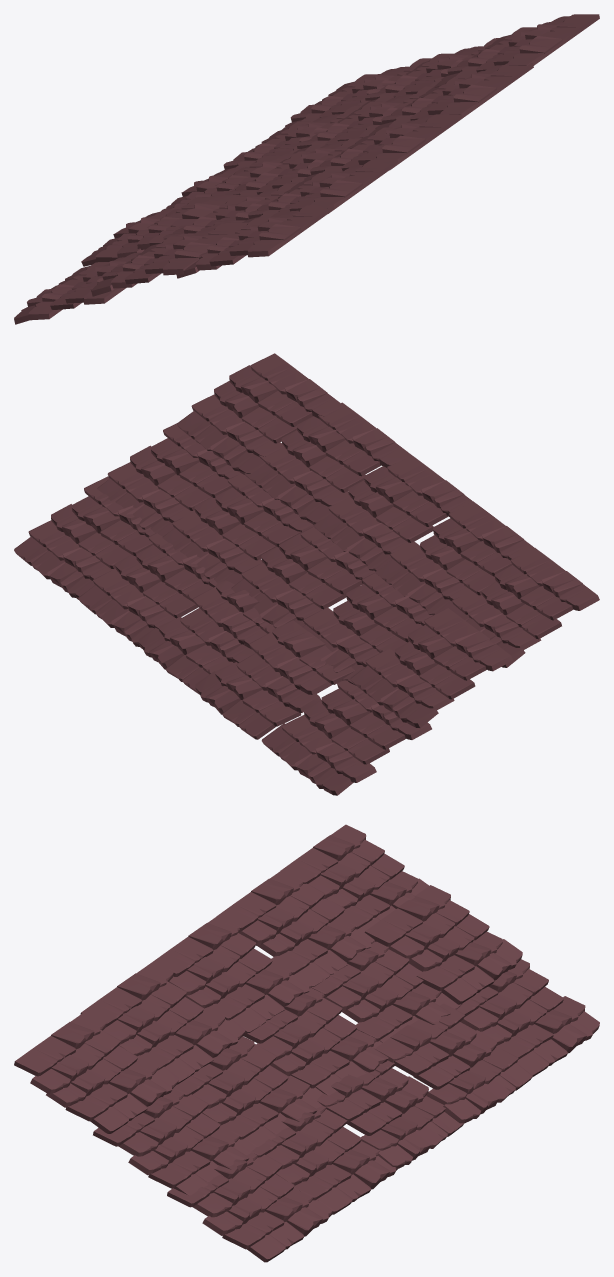
The model's file is RedMainRightRoof.fbx.
3 renders of one model, top to bottom at view 1: azimuth 90°, elevation 25°; view 2: azimuth 150°, elevation 25°; view 3: azimuth 270°, elevation 25°, orthographic.
Parts seen in each view (by area): view 1: RedMainRightRoof_Merged; view 2: RedMainRightRoof_Merged; view 3: RedMainRightRoof_Merged.
Boxes of the visible parts, left/top/right/bottom form: RedMainRightRoof_Merged: left=14, top=14, right=599, bottom=324; RedMainRightRoof_Merged: left=14, top=353, right=599, bottom=795; RedMainRightRoof_Merged: left=14, top=824, right=599, bottom=1262.
Size of the model in its own units: 1748 by 379 by 1434.
